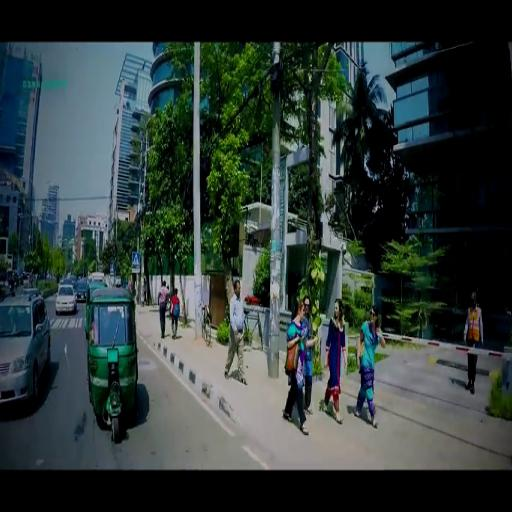car: (1, 292, 52, 407), (56, 284, 77, 311), (77, 280, 87, 302)
three wheelers (CNG): (86, 289, 140, 444)
